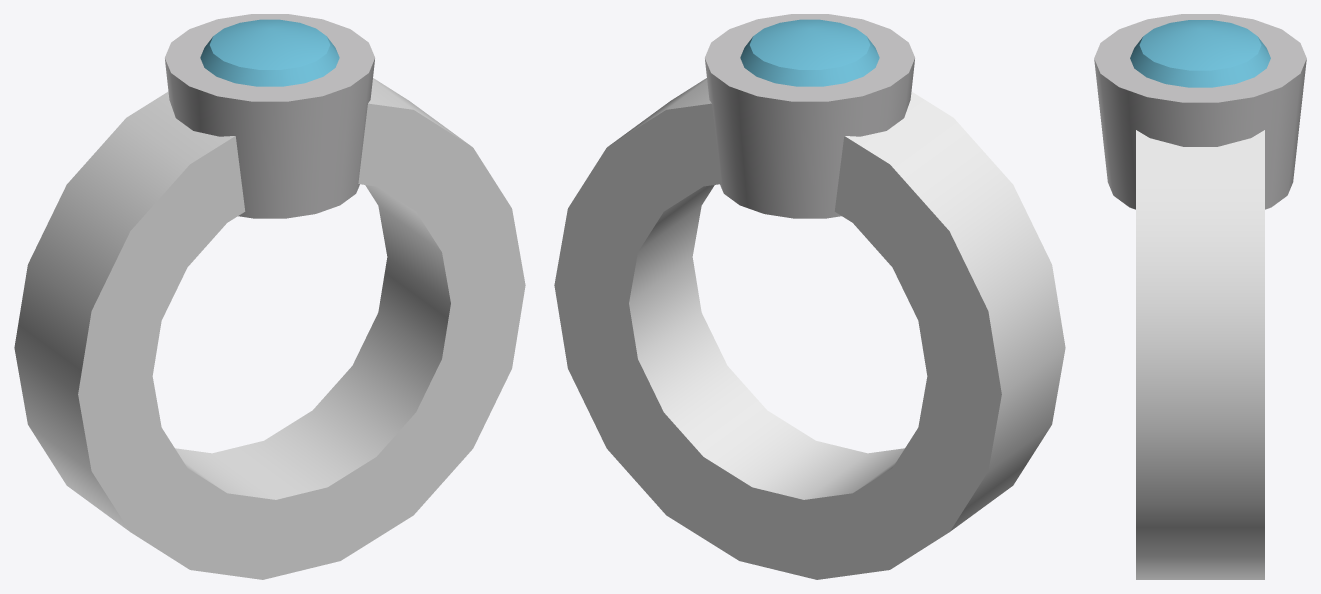
Rendered from Ring.fbx.
The picture shows the model from 3 angles, left to right: view 1: azimuth 30°, elevation 25°; view 2: azimuth 150°, elevation 25°; view 3: azimuth 270°, elevation 25°; orthographic projection.
Visible parts, largest first — view 1: Ring; view 2: Ring; view 3: Ring.
Part boxes in pixels (x1,y1,x2,y2): Ring: (14,14,525,579); Ring: (554,14,1065,579); Ring: (1094,14,1306,579).
Size of the model in its own units: 25.2 by 27.9 by 10.27.
